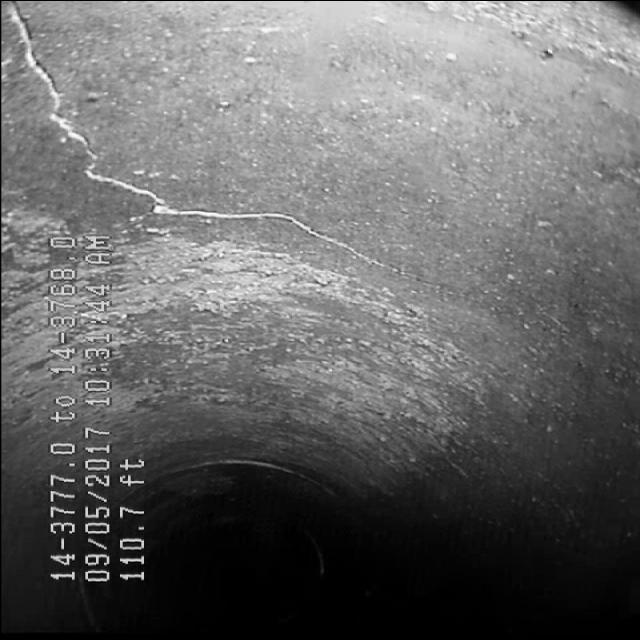Crack: (20, 73, 276, 227)
